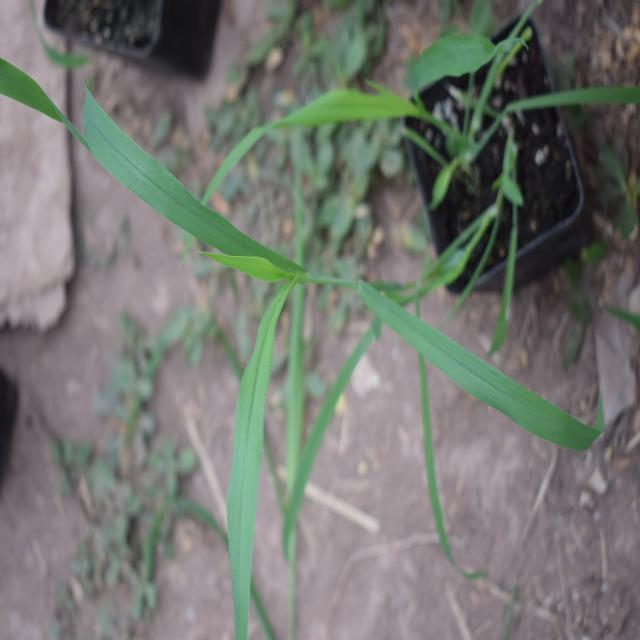crabgrass: (86, 77, 558, 566)
